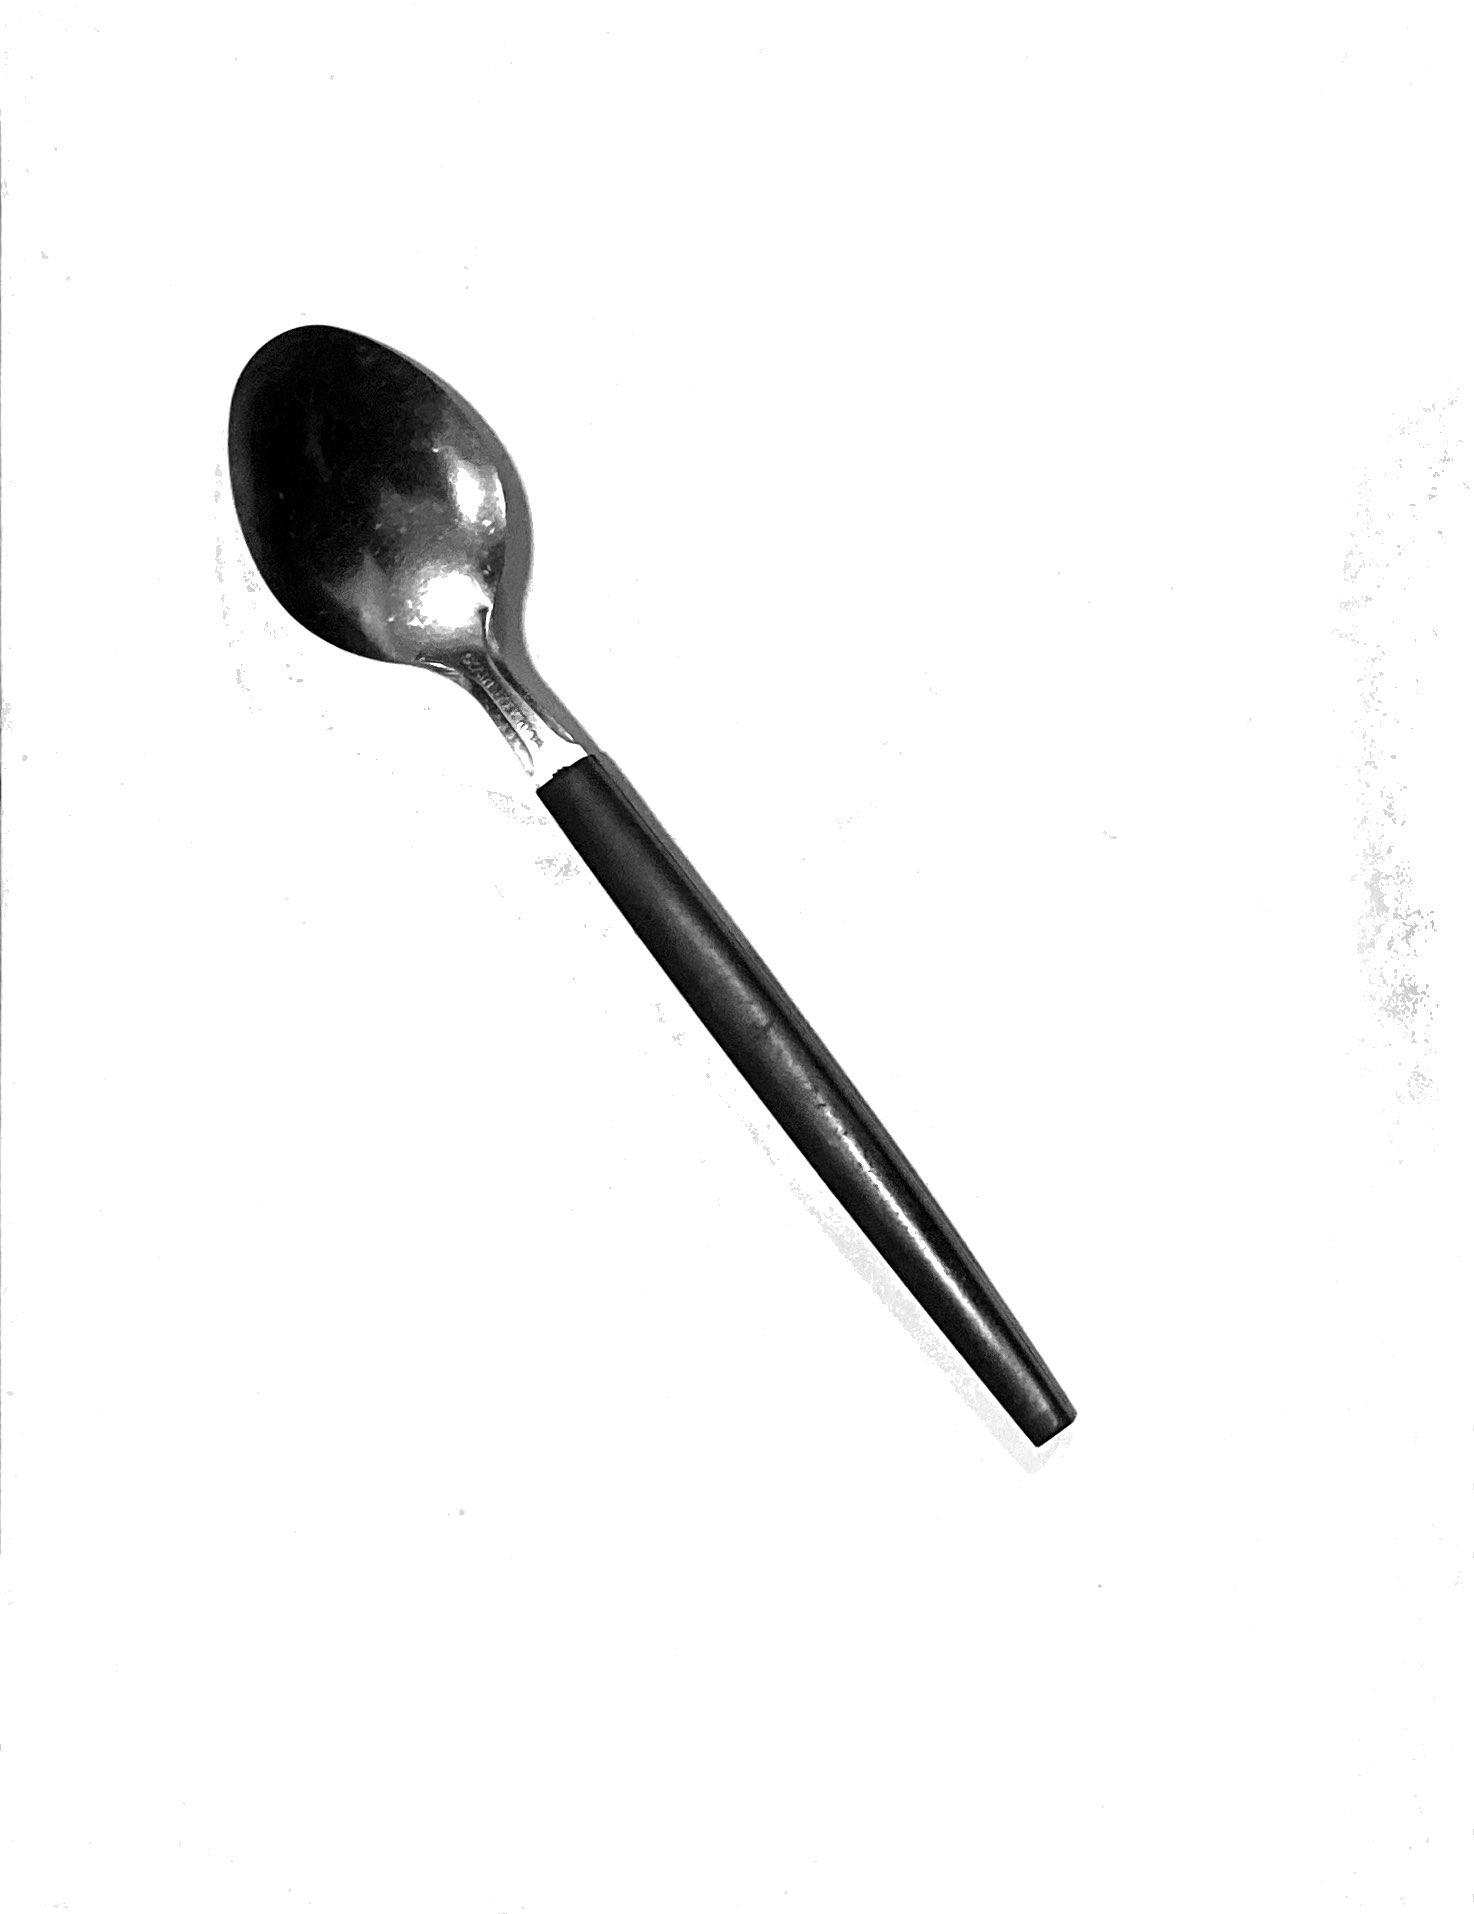Spoon: (201, 277, 1095, 1566)
